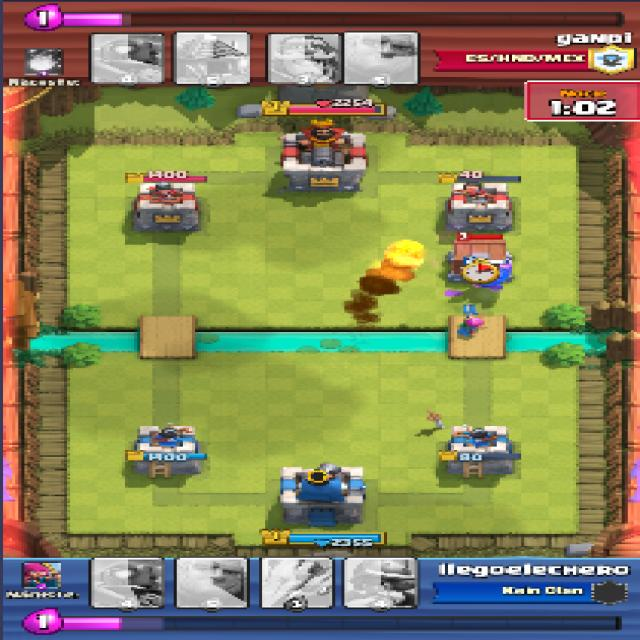Player-Archer: (458, 316, 484, 336)
Player-Fireball: (371, 238, 430, 272)
Player-GoblinCage: (450, 238, 508, 280)
Player-Knight: (470, 266, 512, 289)
